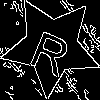R: (26, 21, 77, 78)
